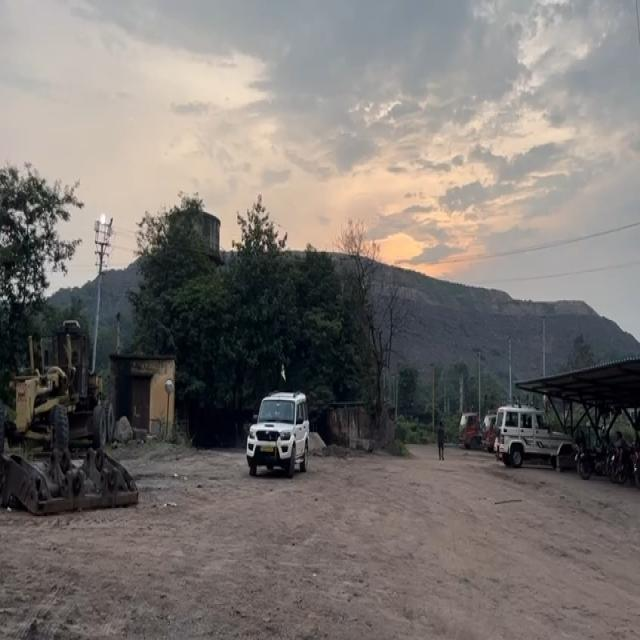light_vehicle: (247, 390, 309, 478), (495, 406, 566, 472)
